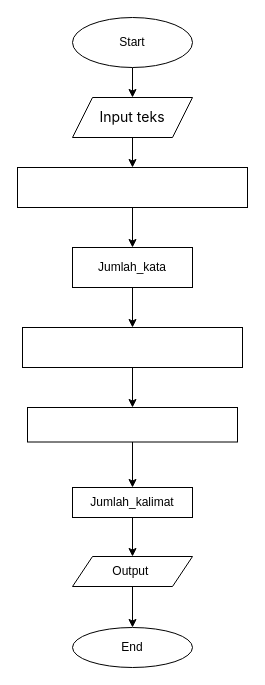
This 265x685 diagram has some shape labels left out. The centre of each missing label's shape, as x and y in pixels:
Pisahkan kata berdasarkan spasi: (x=132, y=187)
Pisahkan teks berdasarkan ".": (x=132, y=347)
Saring bagian yang tidak kosong: (x=132, y=424)
